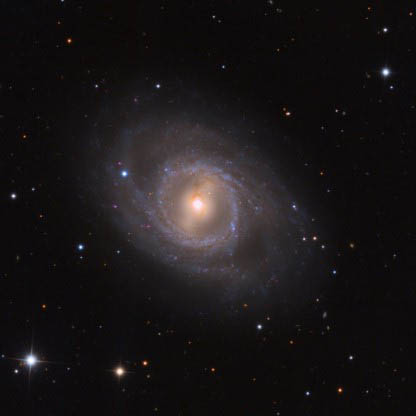Messier 95: (76, 86, 321, 313)
